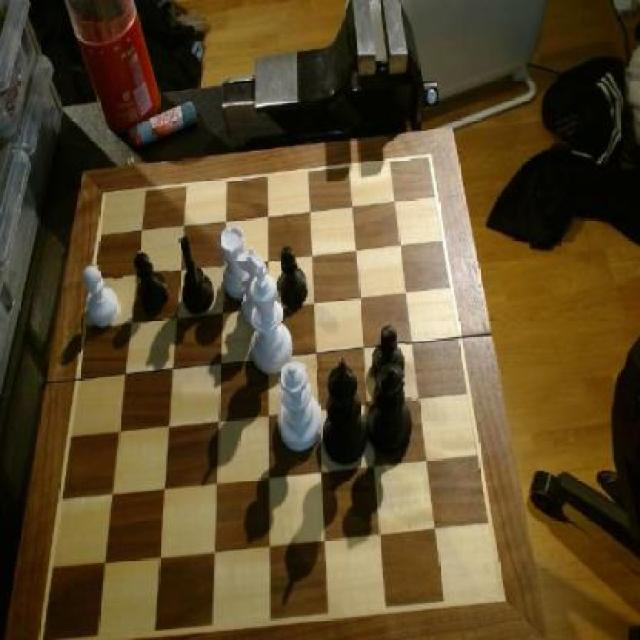black-bishop: (323, 359, 371, 466)
black-king: (174, 232, 215, 316)
black-knight: (132, 251, 172, 315), (277, 243, 312, 311), (372, 326, 408, 389)
black-pawn: (366, 365, 414, 460)
white-bishop: (245, 261, 297, 377)
white-knight: (80, 266, 123, 332)
white-pawn: (277, 360, 326, 457)
white-queen: (218, 223, 254, 302)
